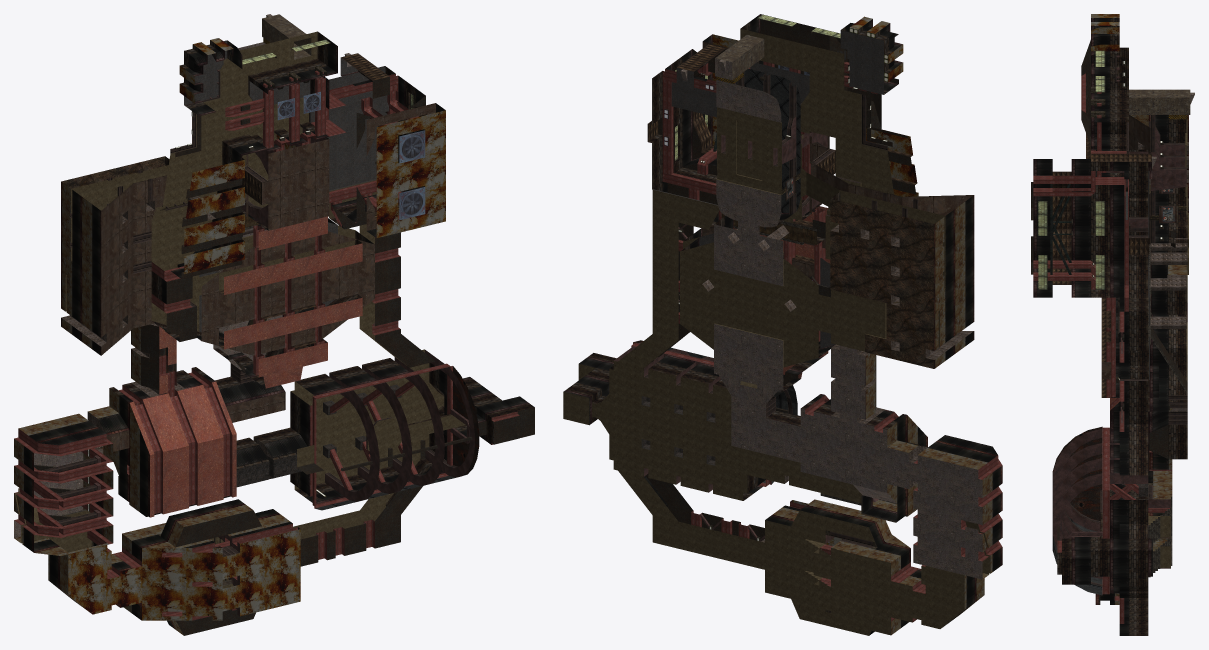
File: DM-Flak][.obj
3 views of the same model, side by side, from view 1: azimuth 30°, elevation 25°; view 2: azimuth 150°, elevation 25°; view 3: azimuth 270°, elevation 25° (orthographic). The views are drawn at different scales.
Visible parts, largest first — view 1: RainFX_Paint, Mine_pillar_Girderm3, RainFX_r-plates-g, UTtech1_Floor_hash-ice-32, RainFX_Blok-tin3, RainFX_Blok-paint2, Mine_Base_MCMETL, TrenchesFX_Metalr05, RainFX_Rmetl2, Mine_Floor_mFloor, RainFX_Rtrim1a, TrenchesFX_Grate10 (+7 smaller); view 2: UTtech1_Floor_hash-ice-32, Slums_Concrete_Conc22, RainFX_Blok-paint2, GenEarth_Ground_Dirt2f, RainFX_Blok-tin3, Mine_pillar_Girderm3, Mine_Base_MCMETL, Mine_Floor_mFloor, RainFX_r-plates-g, UTtech1_Ceiling_nmceiling5, RainFX_Rtrim1a, RainFX_Paint (+5 smaller); view 3: RainFX_Blok-tin3, Mine_pillar_Girderm3, RainFX_Rmetl2, Mine_Trim_Irnwal~3, Mine_Base_MCMETL, RainFX_Rtrim1a, UTtech1_pillar_ClfPilr2, RainFX_Blok-paint2, Slums_brick_LitWinC2, RainFX_ConcreteBase, Mine_Wall_Irnwal~4, UTtech1_Floor_hash-ice-32 (+7 smaller).
Boxes of the visible parts, <box> form: RainFX_Paint: <box>68,38,445,620</box>; Mine_pillar_Girderm3: <box>14,70,519,620</box>; RainFX_r-plates-g: <box>101,103,435,451</box>; UTtech1_Floor_hash-ice-32: <box>15,31,465,588</box>; RainFX_Blok-tin3: <box>39,31,534,506</box>; RainFX_Blok-paint2: <box>14,181,299,635</box>; Mine_Base_MCMETL: <box>34,76,534,635</box>; TrenchesFX_Metalr05: <box>129,216,362,517</box>; RainFX_Rmetl2: <box>55,70,474,615</box>; Mine_Floor_mFloor: <box>184,40,388,332</box>; RainFX_Rtrim1a: <box>42,71,457,556</box>; TrenchesFX_Grate10: <box>277,91,425,220</box>; UTtech1_Floor_hash-ice-32: <box>563,28,990,635</box>; Slums_Concrete_Conc22: <box>680,58,982,579</box>; RainFX_Blok-paint2: <box>765,195,1002,635</box>; GenEarth_Ground_Dirt2f: <box>830,199,934,368</box>; RainFX_Blok-tin3: <box>563,14,997,521</box>; Mine_pillar_Girderm3: <box>614,61,1002,622</box>; Mine_Base_MCMETL: <box>645,14,916,540</box>; Mine_Floor_mFloor: <box>652,30,883,348</box>; RainFX_r-plates-g: <box>702,41,973,277</box>; UTtech1_Ceiling_nmceiling5: <box>642,69,800,484</box>; RainFX_Rtrim1a: <box>644,72,943,612</box>; RainFX_Paint: <box>712,16,918,579</box>; RainFX_Blok-tin3: <box>1033,18,1187,635</box>; Mine_pillar_Girderm3: <box>1033,73,1172,623</box>; RainFX_Rmetl2: <box>1052,55,1186,579</box>; Mine_Trim_Irnwal~3: <box>1052,133,1151,397</box>; Mine_Base_MCMETL: <box>1031,40,1187,540</box>; RainFX_Rtrim1a: <box>1062,55,1187,586</box>; UTtech1_pillar_ClfPilr2: <box>1122,142,1188,485</box>; RainFX_Blok-paint2: <box>1095,115,1188,604</box>; Slums_brick_LitWinC2: <box>1038,50,1105,289</box>; RainFX_ConcreteBase: <box>1129,89,1190,114</box>; Mine_Wall_Irnwal~4: <box>1052,427,1102,520</box>; UTtech1_Floor_hash-ice-32: <box>1148,119,1188,567</box>.
Bounding box in the file's own units: 64.01 × 79.25 × 20.88.
